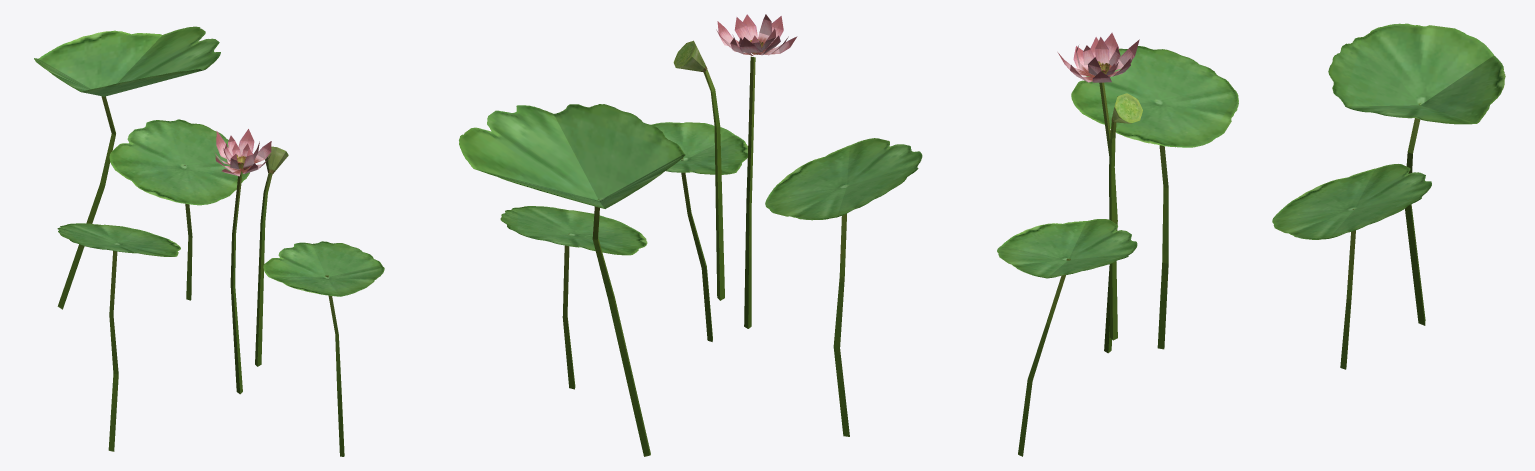
Rendered from Scene_Grass_HeHua_2.FBX.
3 views of the same model, side by side, from view 1: azimuth 30°, elevation 25°; view 2: azimuth 150°, elevation 25°; view 3: azimuth 270°, elevation 25° (orthographic). The views are drawn at different scales.
Visible parts, largest first — view 1: Scene_Grass_HeHua_2; view 2: Scene_Grass_HeHua_2; view 3: Scene_Grass_HeHua_2.
Boxes of the visible parts, <box> form: Scene_Grass_HeHua_2: <box>34,26,384,456</box>; Scene_Grass_HeHua_2: <box>459,14,922,456</box>; Scene_Grass_HeHua_2: <box>997,23,1505,456</box>.
Size of the model in its own units: 182 by 178 by 237.
